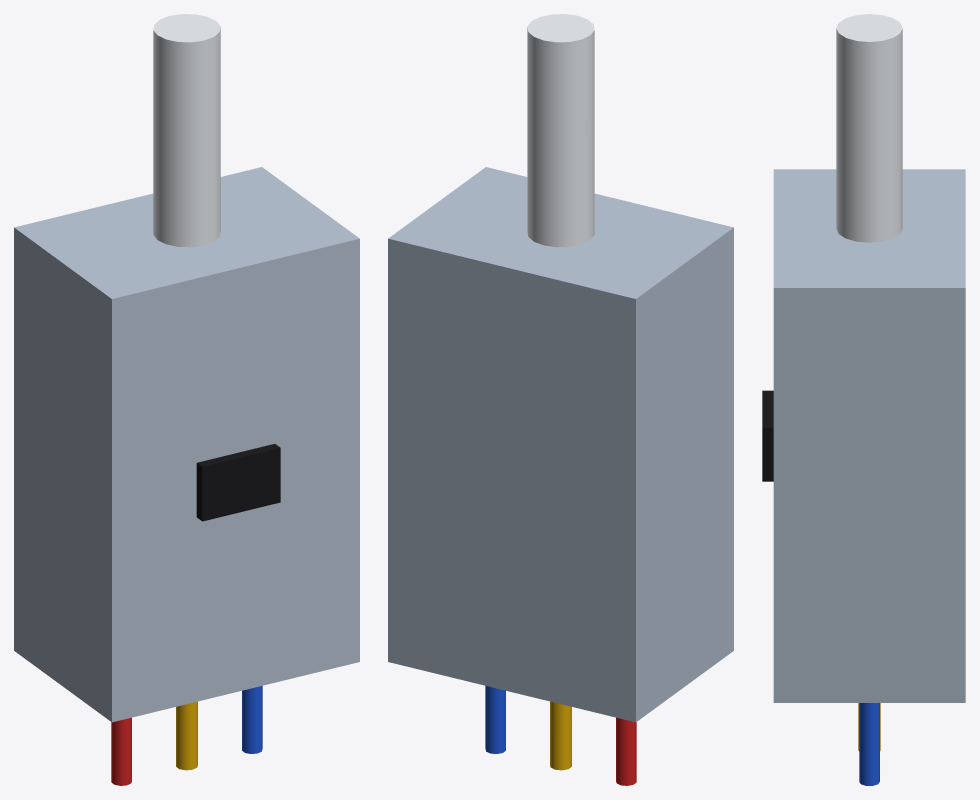
File: wh-tankless-gas.glb
3 views of the same model, side by side, from view 1: azimuth 30°, elevation 25°; view 2: azimuth 150°, elevation 25°; view 3: azimuth 270°, elevation 25° (orthographic). The views are drawn at different scales.
Parts seen in each view (by area): view 1: plumbing-equipment-water-heater-tankless-gas; view 2: plumbing-equipment-water-heater-tankless-gas; view 3: plumbing-equipment-water-heater-tankless-gas.
Boxes of the visible parts, x1,y1,x2,y2 form: plumbing-equipment-water-heater-tankless-gas: (14, 14, 359, 785); plumbing-equipment-water-heater-tankless-gas: (388, 14, 733, 785); plumbing-equipment-water-heater-tankless-gas: (762, 14, 965, 785).
Bounding box in the file's own units: 0.38 × 1.08 × 0.275.
